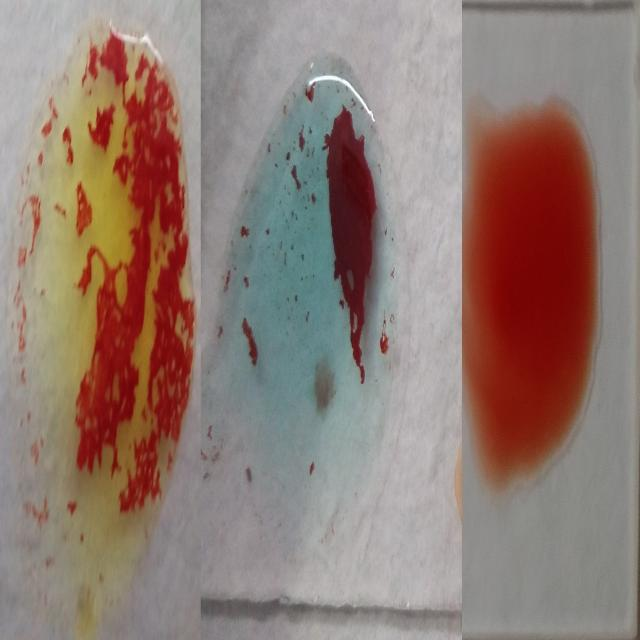A: (232, 61, 404, 548)
B: (12, 13, 195, 602)
